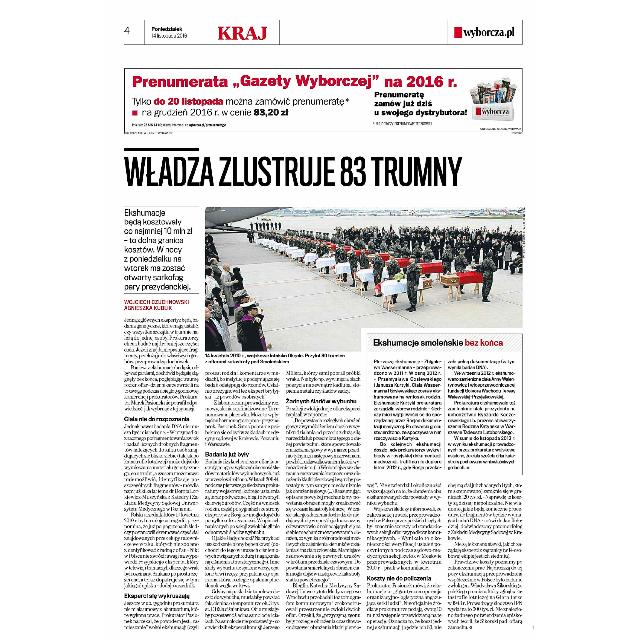article: (120, 140, 528, 634)
